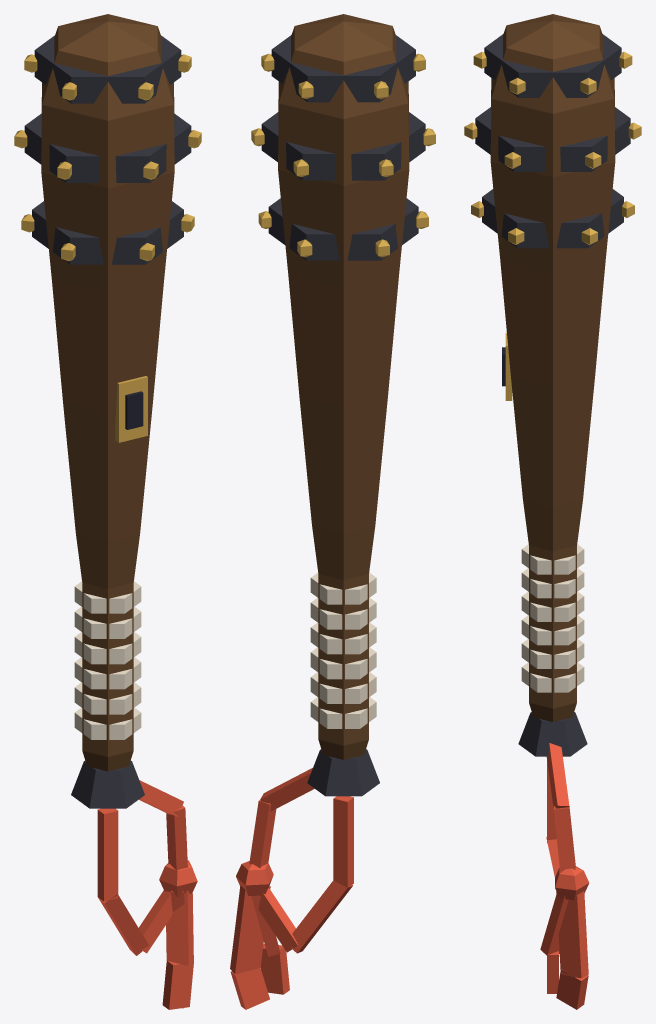
The model's file is weapon_bangmang.glb.
The picture shows the model from 3 angles, left to right: view 1: azimuth 30°, elevation 25°; view 2: azimuth 150°, elevation 25°; view 3: azimuth 270°, elevation 25°; orthographic projection. The views are drawn at different scales.
Visible parts, largest first — view 1: weapon_bangmang; view 2: weapon_bangmang; view 3: weapon_bangmang.
Boxes of the visible parts, <box> form: weapon_bangmang: <box>14,14,201,1009</box>; weapon_bangmang: <box>230,14,435,1009</box>; weapon_bangmang: <box>464,14,641,1009</box>.
Bounding box in the file's own units: 0.2146 × 1.21 × 0.2046.
